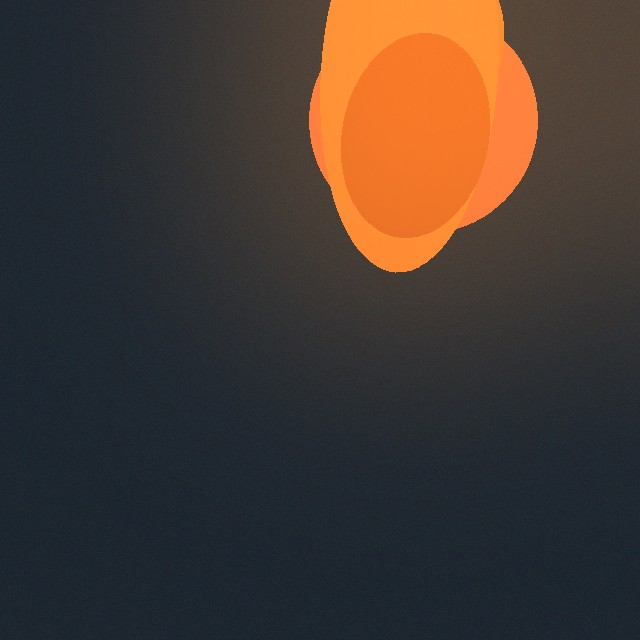fire: (276, 26, 562, 228)
